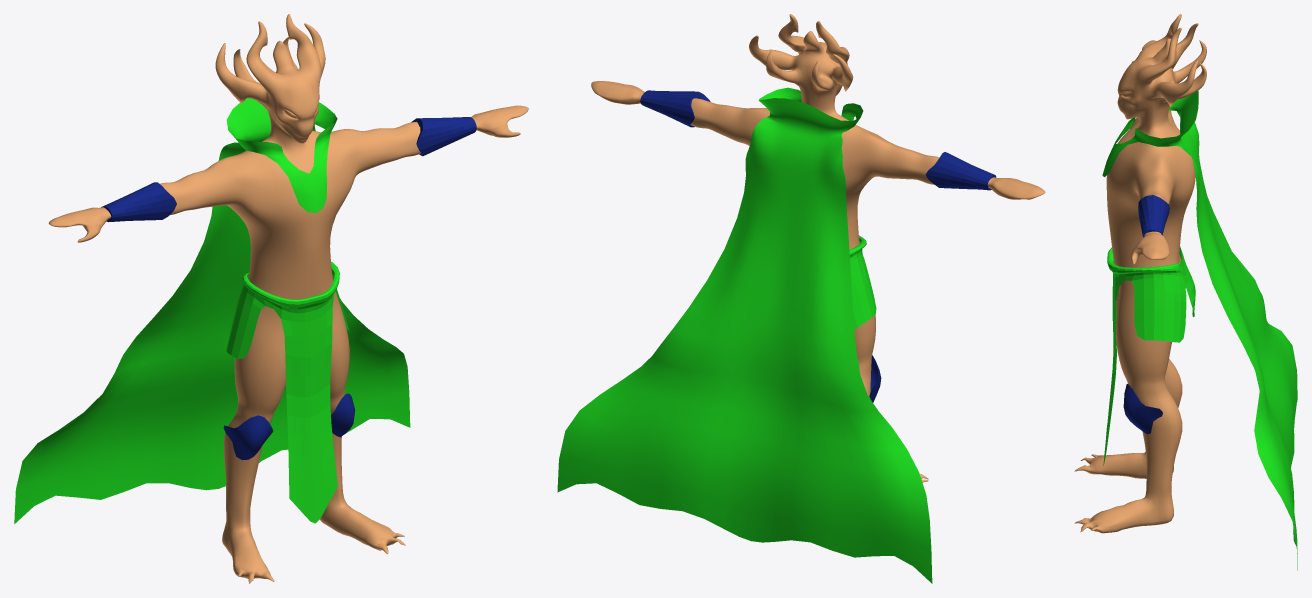
File: Shaft_enemy.fbx
3 views of the same model, side by side, from view 1: azimuth 30°, elevation 25°; view 2: azimuth 150°, elevation 25°; view 3: azimuth 270°, elevation 25° (orthographic). The views are drawn at different scales.
Parts seen in each view (by area): view 1: Cube.002, Cube, Cube.003, Cube.001, Cube.004; view 2: Cube.002, Cube, Cube.001, Cube.003; view 3: Cube, Cube.002, Cube.003, Cube.001, Cube.004.
Part boxes in pixels (box(x1,y1,x2,y2)): Cube.002: box(14, 98, 410, 523); Cube: box(48, 14, 528, 583); Cube.003: box(226, 261, 349, 523); Cube.001: box(101, 117, 476, 222); Cube.004: box(223, 393, 355, 459); Cube.002: box(557, 87, 932, 583); Cube: box(591, 14, 1045, 482); Cube.001: box(640, 90, 996, 190); Cube.003: box(849, 235, 876, 328); Cube: box(1074, 14, 1206, 533); Cube.002: box(1102, 91, 1297, 570); Cube.003: box(1103, 246, 1195, 465); Cube.001: box(1138, 195, 1169, 237); Cube.004: box(1123, 384, 1162, 433).
Size of the model in its own units: 184 by 188 by 79.45.
